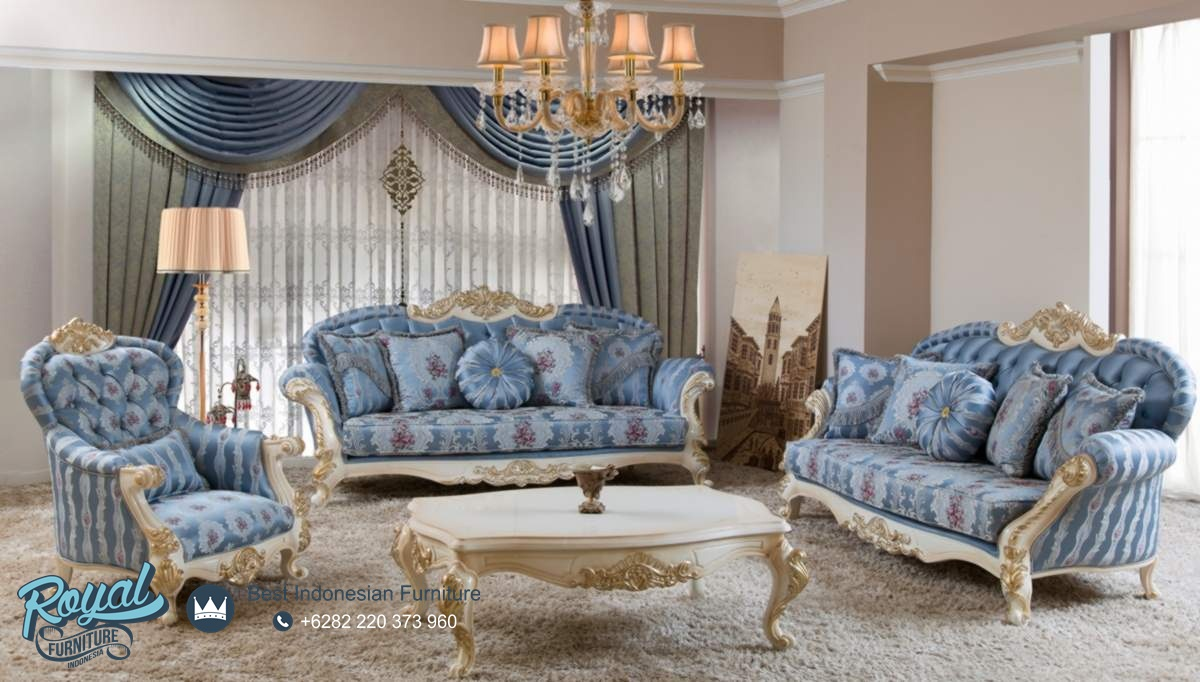Carving Chair: (799, 302, 1183, 610), (291, 289, 727, 493), (21, 319, 309, 609)
Carving Table: (394, 487, 820, 652)
